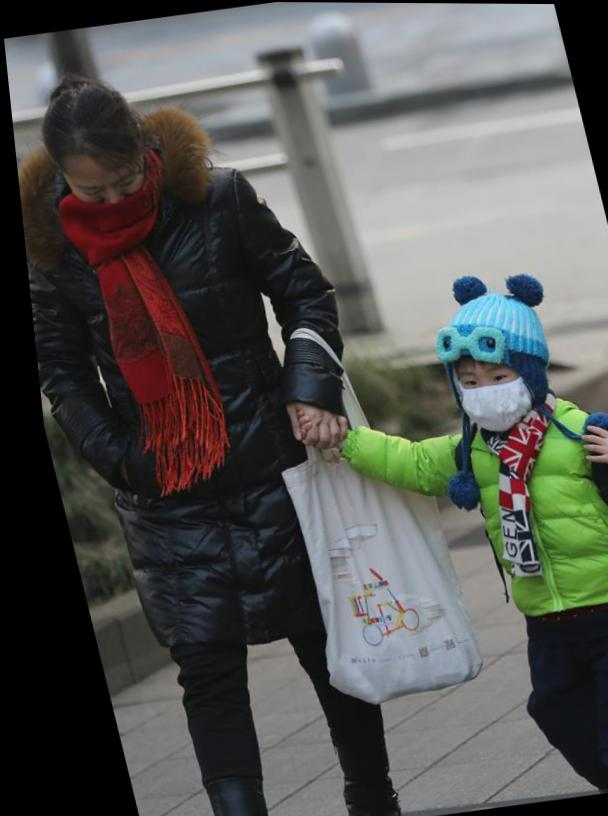OK: (435, 348, 534, 437)
WRONG: (62, 159, 146, 237)
